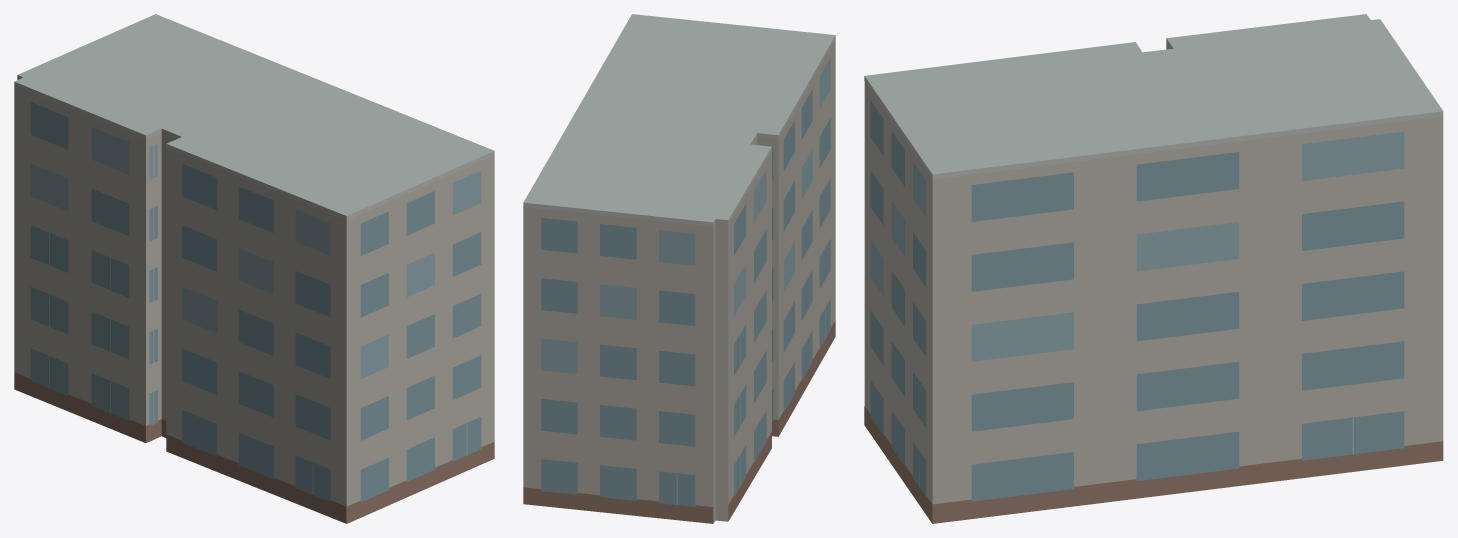
Rendered from survey-upis-32862378.glb.
The picture shows the model from 3 angles, left to right: view 1: azimuth 30°, elevation 25°; view 2: azimuth 150°, elevation 25°; view 3: azimuth 270°, elevation 25°; orthographic projection. The views are drawn at different scales.
Parts seen in each view (by area): view 1: survey-upis-32862378.tmp; view 2: survey-upis-32862378.tmp; view 3: survey-upis-32862378.tmp.
Boxes of the visible parts, box(x1,y1,x2,y2) form: survey-upis-32862378.tmp: box(14, 14, 494, 523); survey-upis-32862378.tmp: box(523, 14, 835, 523); survey-upis-32862378.tmp: box(864, 14, 1443, 523).
Bounding box in the file's own units: 16.64 × 16.9 × 25.38.
